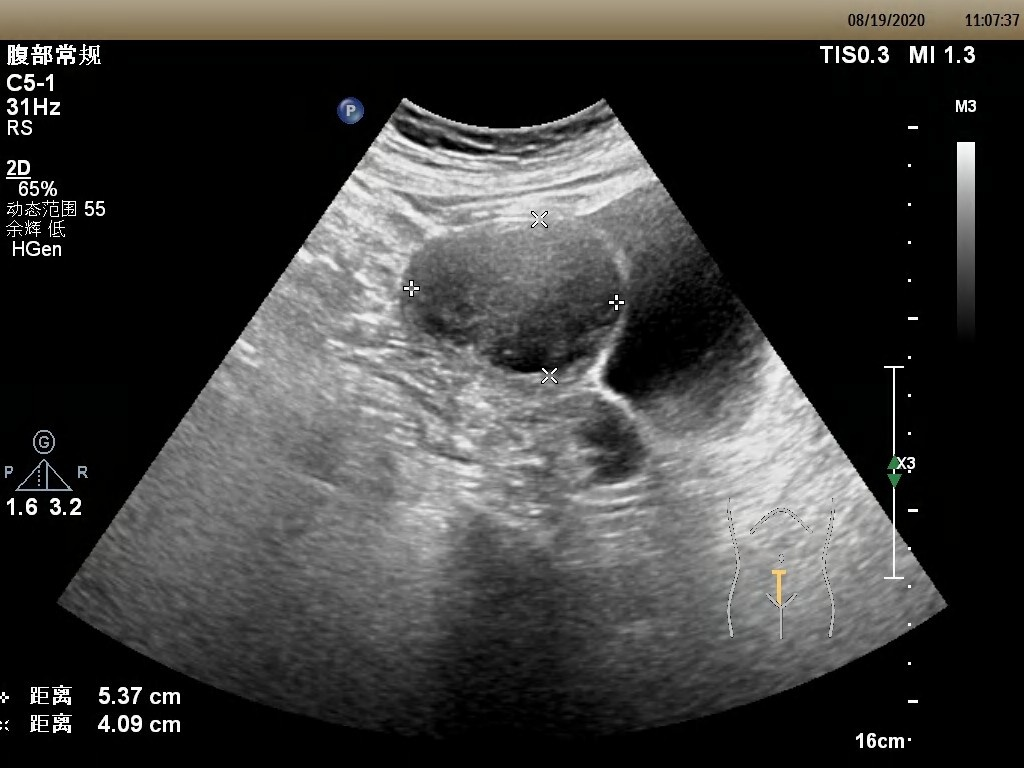肌瘤: (414, 225, 616, 370)
